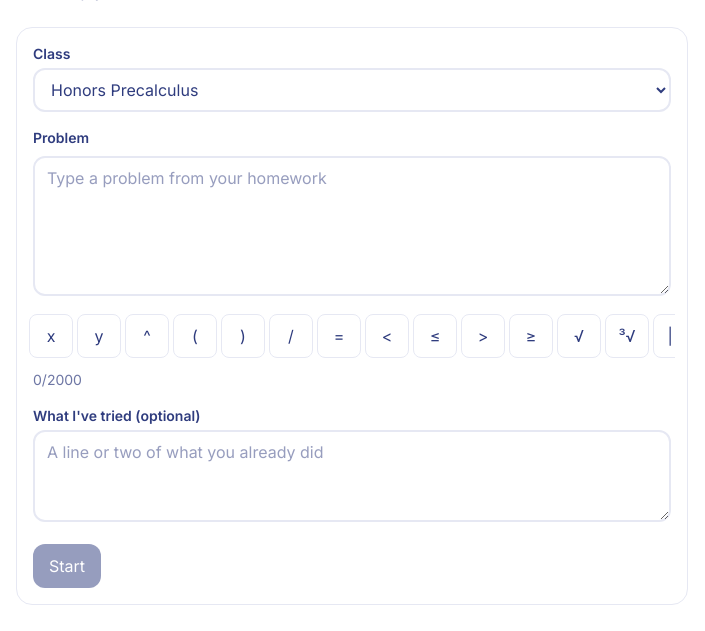
it: Ask about any problem › lists the classes, inserts a symbol, and starts a conversation
Expected: the button "Start" is disabled, [33, 544, 101, 588]
Click the button named "square root".
click(579, 336)  # box [557, 314, 601, 358]
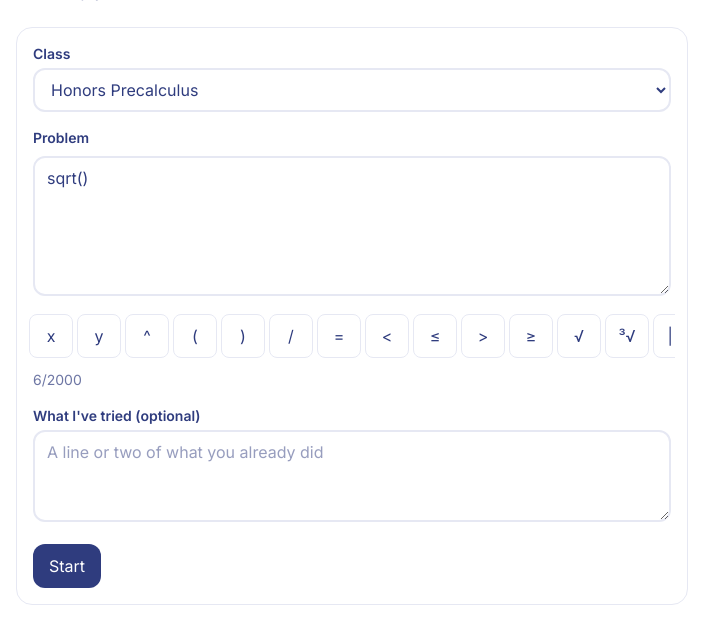
Expected: the field labelled "Your question" is not shown
Replace the text in the text box labelled "Problem" with "Solve 2x + 3 = 11" at coordinates (352, 226), box [33, 156, 671, 296]
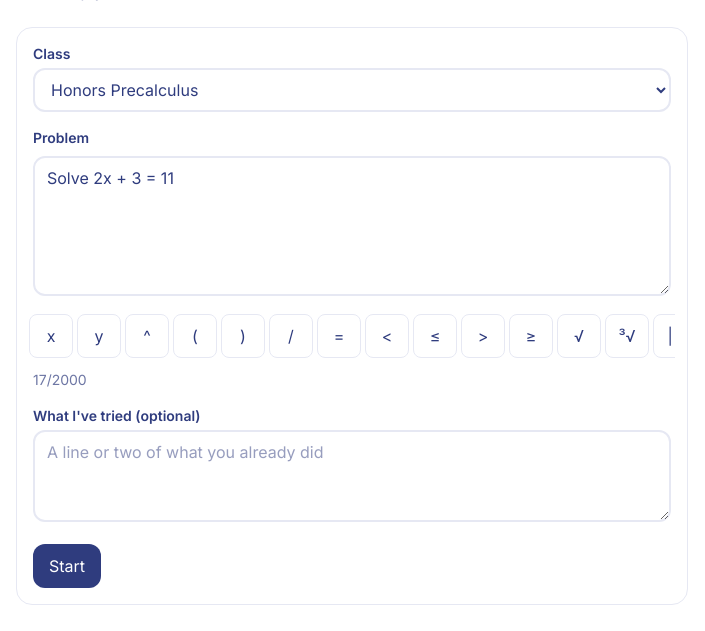
Type "I subtracted 3" into the text box labelled "What I've tried (optional)".
click(352, 476); type("I subtracted 3")  # box [33, 430, 671, 522]
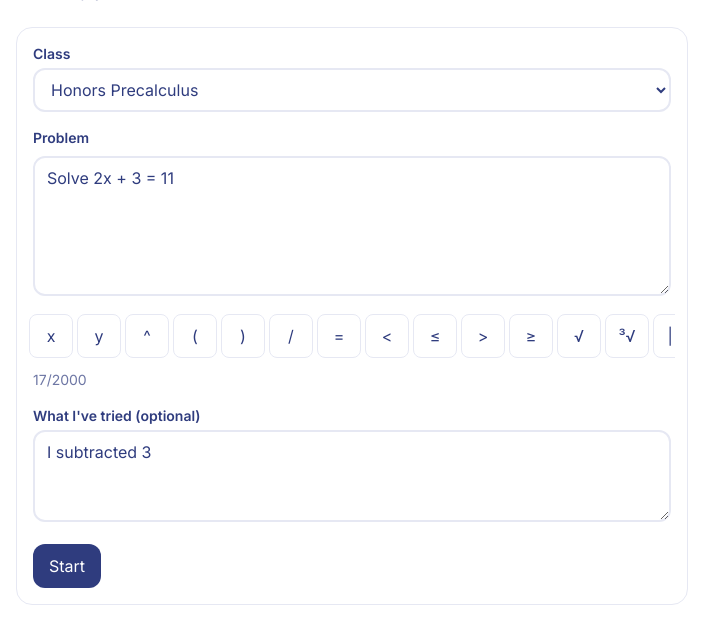
Click the button "Start".
click(67, 566)  # box [33, 544, 101, 588]
(page scrolled)
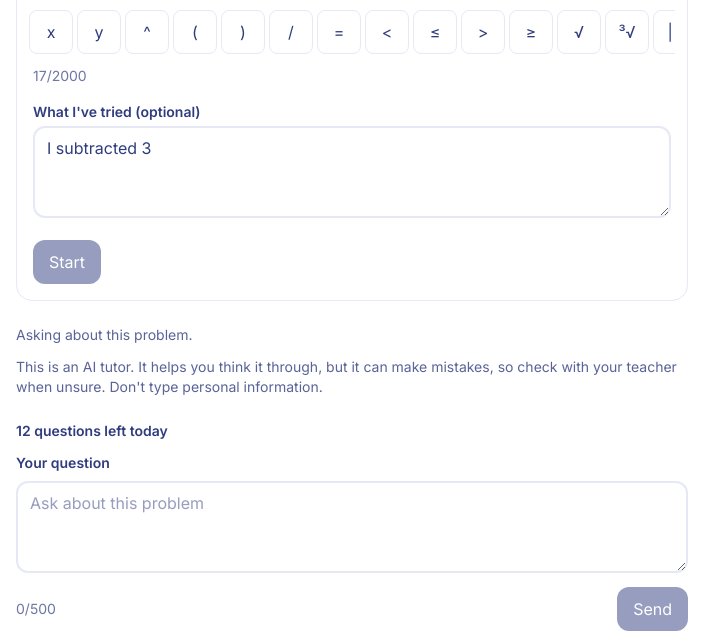
Now the text box labelled "Your question" is shown, box [16, 481, 688, 573]
Now the text "12 questions left today" is shown, box [16, 422, 168, 439]
